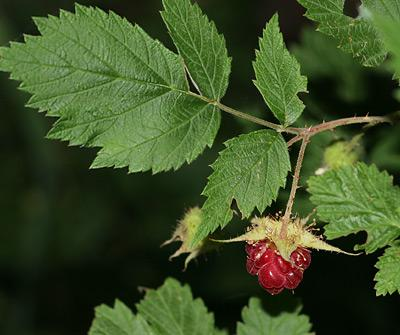Raspberry leaf: (1, 1, 233, 171), (181, 121, 295, 252), (248, 10, 309, 129)
